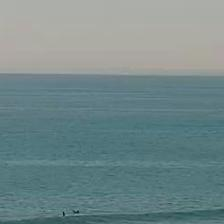surfer: (61, 212, 66, 216), (76, 210, 80, 213)
